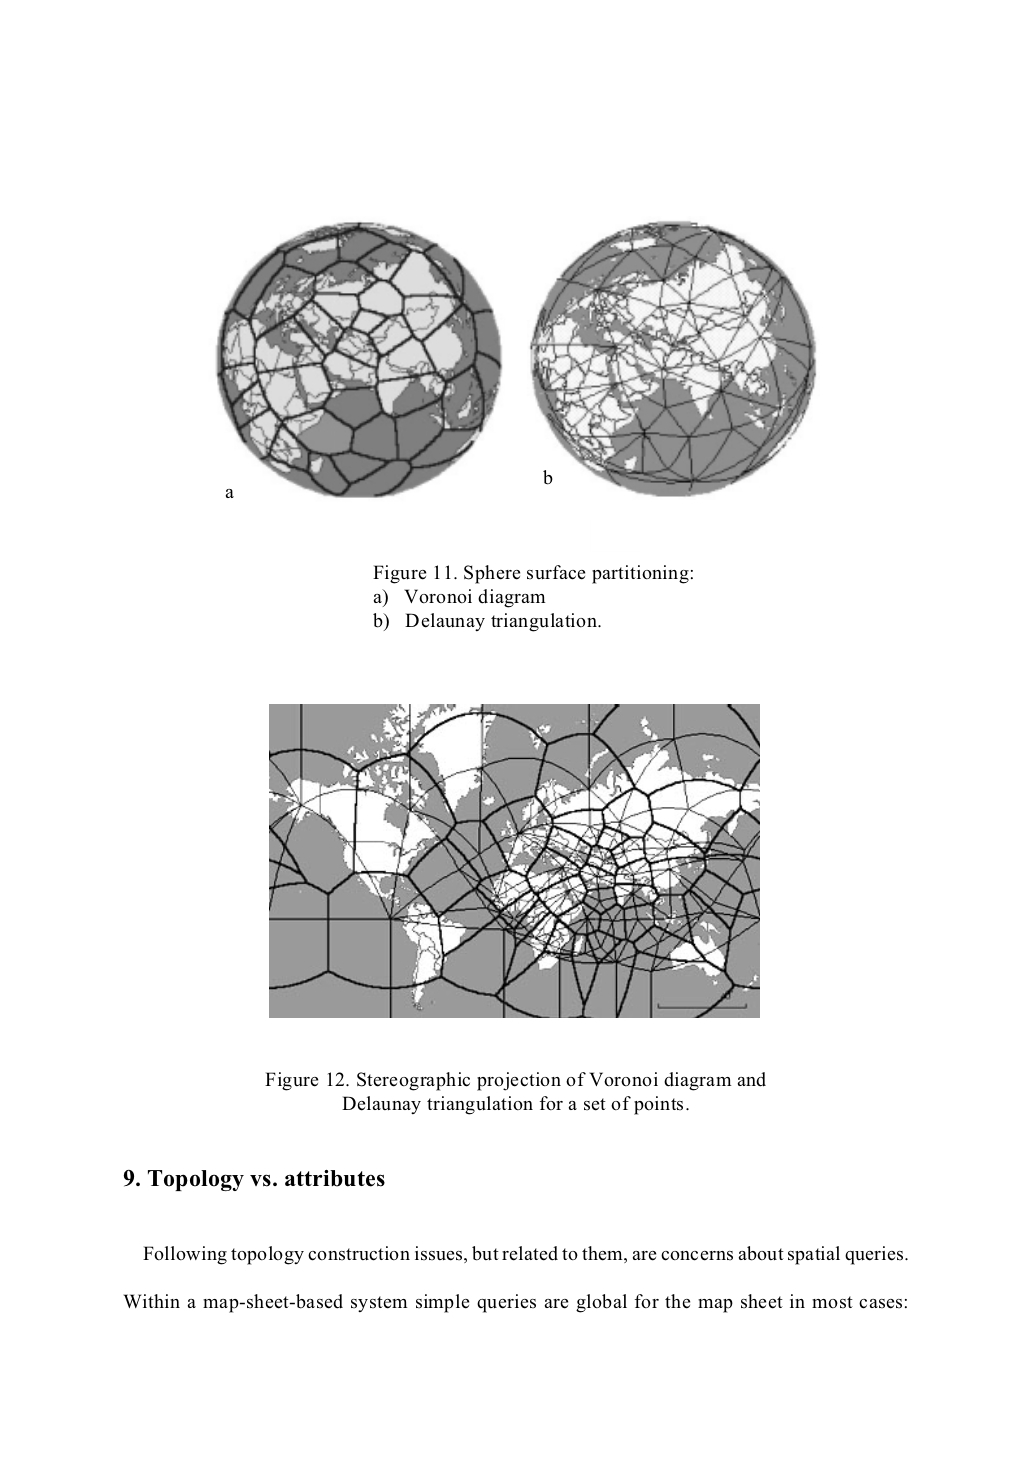figure: (269, 702, 759, 1018), (215, 220, 502, 499), (529, 220, 816, 497)
